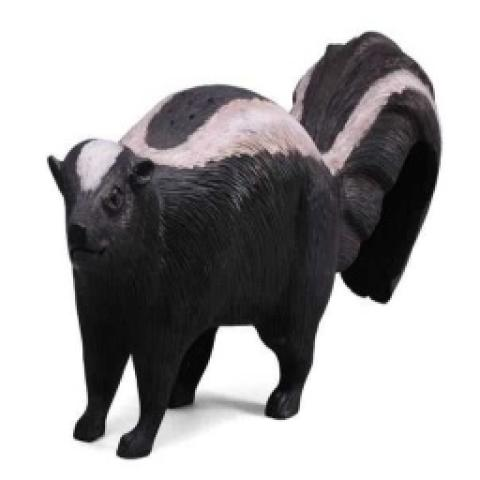small_animal: (41, 26, 444, 460)
